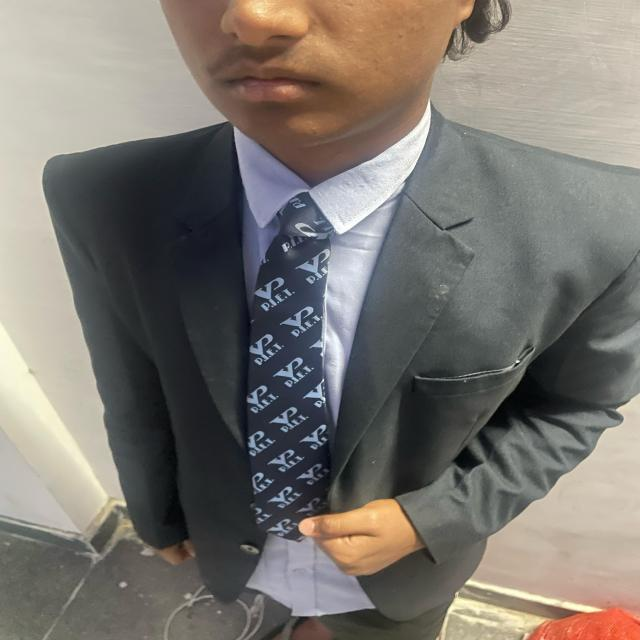Tie: (245, 192, 334, 542)
uniform: (40, 100, 639, 638)
